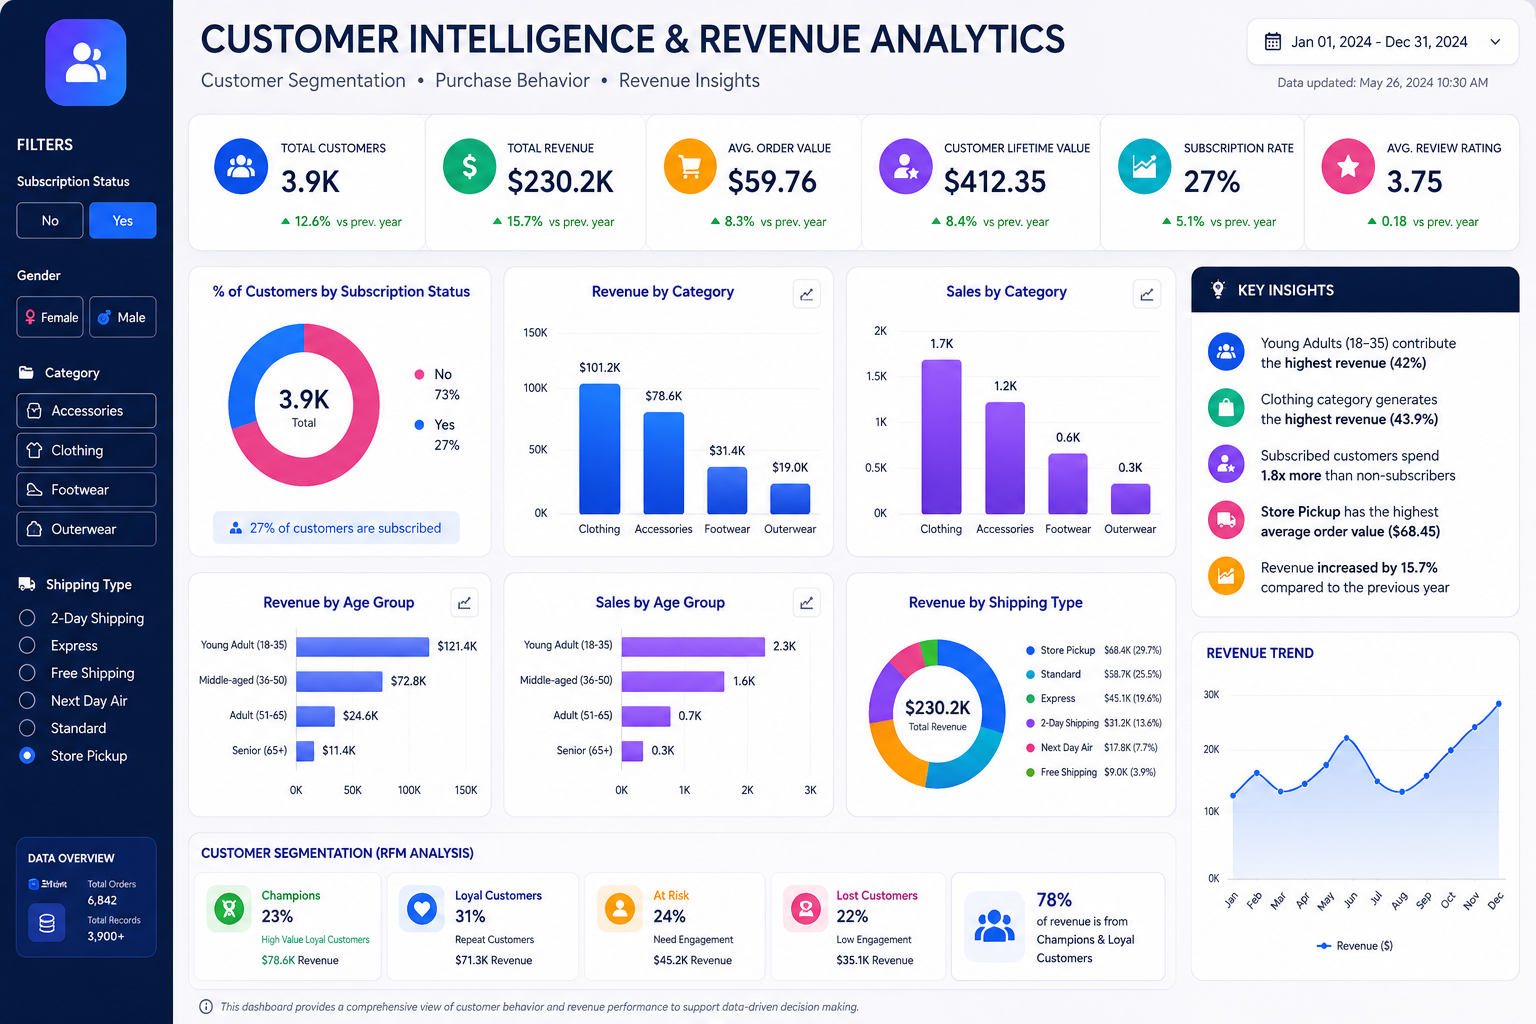

What the dashboard file says about the page in this screenshot:
{"tool":"powerbi","page":{"name":"Page 1","canvas":[1280,720],"ordinal":0},"visuals":[{"type":"cardVisual","fields":{"Data":["customer_behaviour customer.Number of customer","customer_behaviour customer.Average Purchase Amount","customer_behaviour customer.Average Review Rating"]},"box":[184.6,121.1,1066.3,174.9],"z":0},{"type":"shape","box":[61.7,13.7,1189.7,107],"z":1000},{"type":"textbox","box":[352.7,38.4,671,57.6],"z":2000},{"type":"shape","box":[198.1,282.5,346.1,212.8],"z":3000},{"type":"shape","box":[896.3,282.5,365.6,212.8],"z":4000},{"type":"shape","box":[544.2,282.5,352.2,212.8],"z":5000},{"type":"donutChart","title":"% of customer by subscription status","fields":{"Y":["CountNonNull(customer_behaviour customer.customer_id)"],"Category":["customer_behaviour customer.subscription_status"]},"box":[232.3,309.4,287.4,132.1],"z":6000},{"type":"clusteredColumnChart","title":"Revenue by category","fields":{"Y":["Sum(customer_behaviour customer.purchase_amount)"],"Category":["customer_behaviour customer.category"]},"box":[585.7,295.9,271.5,190.8],"z":7000},{"type":"clusteredColumnChart","title":"Sales by category","fields":{"Y":["CountNonNull(customer_behaviour customer.customer_id)"],"Category":["customer_behaviour customer.category"]},"box":[955,295.9,271.5,190.8],"z":8000},{"type":"shape","box":[6.9,111.1,188,598.3],"z":9000},{"type":"advancedSlicerVisual","title":"Subscription_Status","fields":{"Values":["customer_behaviour customer.subscription_status"]},"box":[16.5,120.8,168.8,74.1],"z":10000},{"type":"advancedSlicerVisual","title":"Gender","fields":{"Values":["customer_behaviour customer.gender"]},"box":[19.2,208.6,166,74.1],"z":11000},{"type":"advancedSlicerVisual","title":"Category","fields":{"Values":["customer_behaviour customer.category"]},"box":[19.2,296.4,160.5,200.3],"z":12000},{"type":"listSlicer","title":"Shipping_type","fields":{"Values":["customer_behaviour customer.shipping_type"]},"box":[23.3,516,148.2,181.1],"z":13000},{"type":"hundredPercentStackedBarChart","fields":{"Y":["Sum(customer_behaviour customer.purchase_amount)"],"Category":["customer_behaviour customer.age_group"]},"box":[262.1,507.7,408.9,189.4],"z":14000},{"type":"textbox","box":[198,495,346,214],"z":15000},{"type":"shape","box":[209.9,495.4,511.8,214.1],"z":16000},{"type":"shape","box":[735.5,495.4,525.6,214.1],"z":17000},{"type":"clusteredBarChart","title":"Sales by agegroup","fields":{"Category":["customer_behaviour customer.age_group"],"Y":["Sum(customer_behaviour customer.purchase_amount)"]},"box":[772.6,507.7,408.9,189.4],"z":18000},{"type":"clusteredBarChart","title":"Revenue by age group ","fields":{"Category":["customer_behaviour customer.age_group"],"Y":["Sum(customer_behaviour customer.purchase_amount)"]},"box":[262.1,514.6,408.9,182.5],"z":19000}]}

Visuals, with their boxes on the page's 1280x720 design canvas (x1, y1, x2, y2). These are canvas units, not pixel positions in the 1536x1024 screenshot, which may show the page scaled, cropped or inside an application window:
cardVisual - customer_behaviour customer.Number of customer x customer_behaviour customer.Average Purchase Amount: (x1=185, y1=121, x2=1251, y2=296)
shape: (x1=62, y1=14, x2=1251, y2=121)
textbox: (x1=353, y1=38, x2=1024, y2=96)
shape: (x1=198, y1=282, x2=544, y2=495)
shape: (x1=896, y1=282, x2=1262, y2=495)
shape: (x1=544, y1=282, x2=896, y2=495)
"% of customer by subscription status" donutChart: (x1=232, y1=309, x2=520, y2=442)
"Revenue by category" clusteredColumnChart: (x1=586, y1=296, x2=857, y2=487)
"Sales by category" clusteredColumnChart: (x1=955, y1=296, x2=1226, y2=487)
shape: (x1=7, y1=111, x2=195, y2=709)
"Subscription_Status" advancedSlicerVisual: (x1=16, y1=121, x2=185, y2=195)
"Gender" advancedSlicerVisual: (x1=19, y1=209, x2=185, y2=283)
"Category" advancedSlicerVisual: (x1=19, y1=296, x2=180, y2=497)
"Shipping_type" listSlicer: (x1=23, y1=516, x2=172, y2=697)
hundredPercentStackedBarChart - Sum(customer_behaviour customer.purchase_amount) x customer_behaviour customer.age_group: (x1=262, y1=508, x2=671, y2=697)
textbox: (x1=198, y1=495, x2=544, y2=709)
shape: (x1=210, y1=495, x2=722, y2=710)
shape: (x1=736, y1=495, x2=1261, y2=710)
"Sales by agegroup" clusteredBarChart: (x1=773, y1=508, x2=1182, y2=697)
"Revenue by age group " clusteredBarChart: (x1=262, y1=515, x2=671, y2=697)
